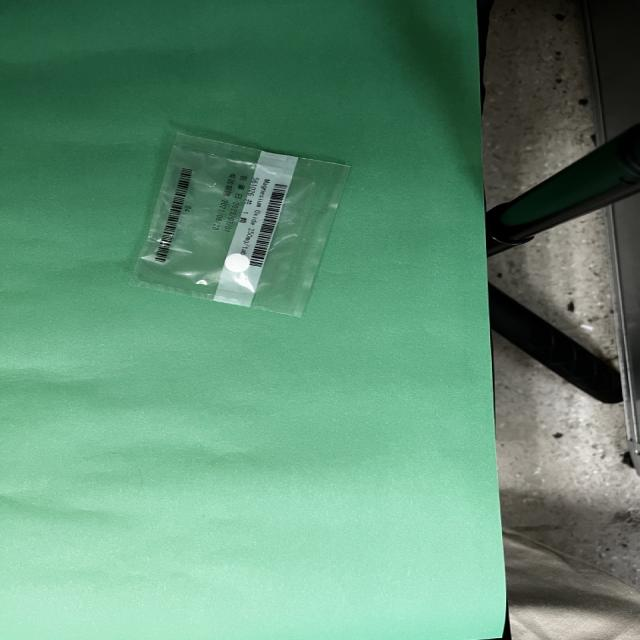Other Objects: (133, 132, 349, 316), (217, 216, 223, 222)
